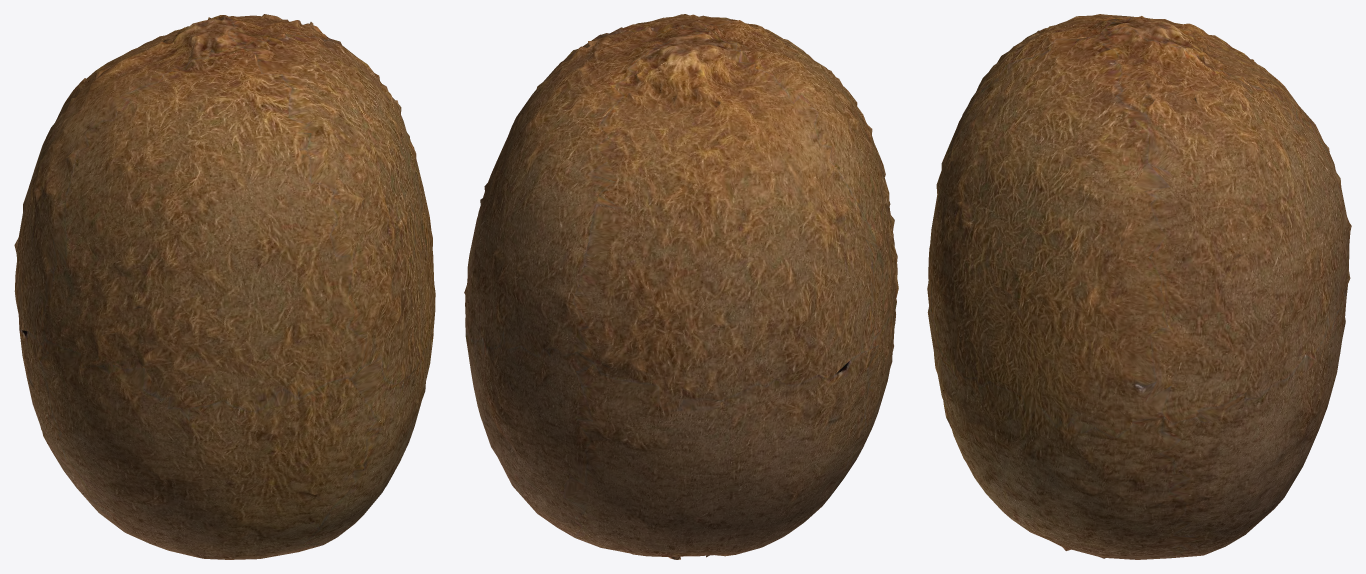
Rendered from food_kiwi_01.glb.
3 renders of one model, left to right at view 1: azimuth 30°, elevation 25°; view 2: azimuth 150°, elevation 25°; view 3: azimuth 270°, elevation 25°, orthographic.
Visible parts, largest first — view 1: food_kiwi_01; view 2: food_kiwi_01; view 3: food_kiwi_01.
Boxes of the visible parts, left/top/right/bottom form: food_kiwi_01: left=14, top=14, right=435, bottom=559; food_kiwi_01: left=464, top=14, right=898, bottom=559; food_kiwi_01: left=927, top=14, right=1351, bottom=559.
Bounding box in the file's own units: 0.0695 × 0.0901 × 0.0686.
Materials: 1 (1 with a texture image).
